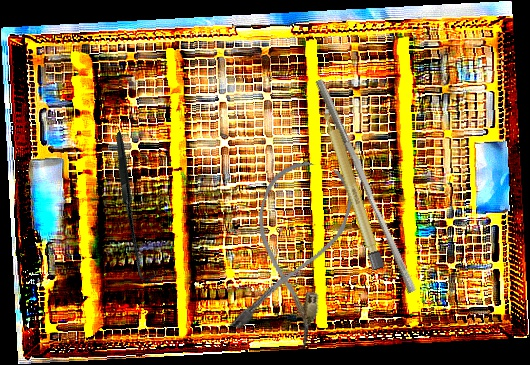Cannula: (225, 152, 360, 350)
Hook Surgical: (59, 129, 211, 285)
Pusher: (306, 78, 425, 294)
Scalpel Handle: (319, 104, 386, 271)
